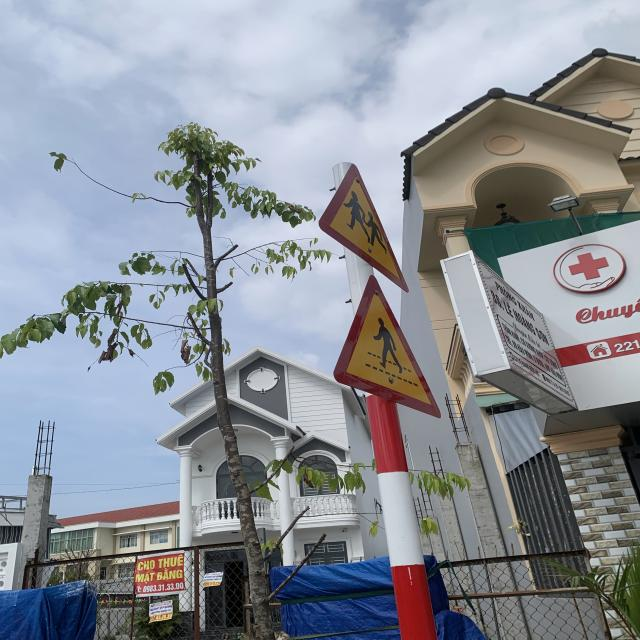Duong_Nguoi_Di_Bo_Sang_Ngang: (330, 272, 446, 422)
Vong_Xuyen: (317, 162, 413, 294)
